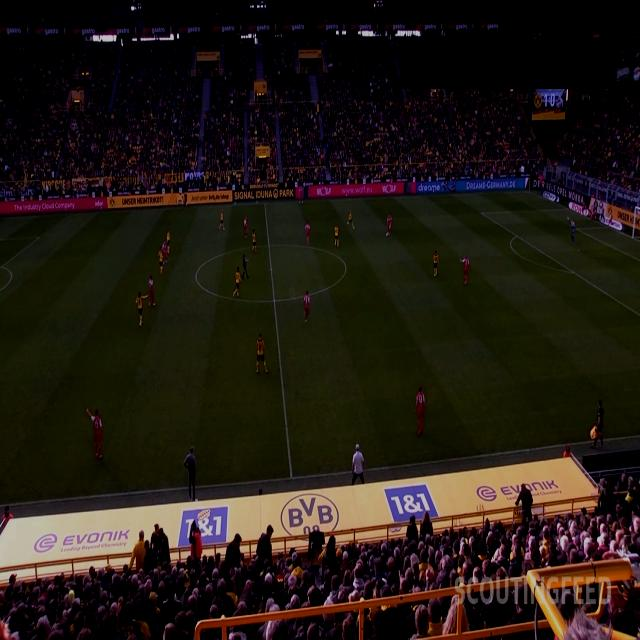ball: (386, 233, 388, 237)
f_player: (85, 406, 105, 461), (414, 384, 428, 438), (254, 333, 267, 376), (135, 292, 148, 328), (458, 254, 471, 284), (566, 216, 578, 246), (146, 274, 156, 308), (232, 265, 242, 299), (303, 290, 311, 324), (432, 250, 440, 278), (304, 220, 312, 248), (346, 208, 355, 232), (384, 214, 392, 238), (218, 208, 226, 232), (158, 246, 164, 276), (166, 226, 172, 256), (334, 222, 340, 248), (162, 239, 168, 265), (252, 228, 258, 254), (243, 214, 249, 239), (298, 184, 304, 204)
umpire: (242, 250, 250, 280)
